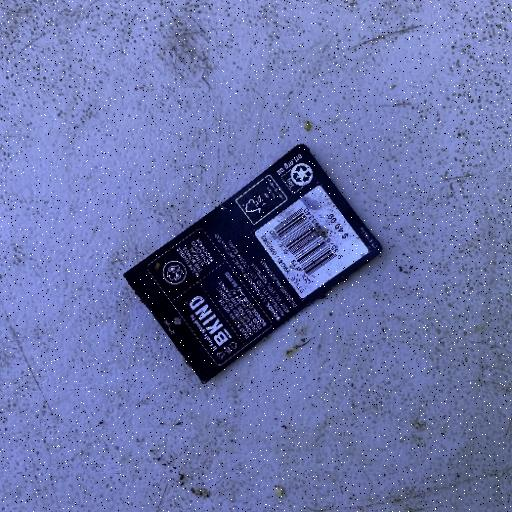Cardboard: (121, 142, 384, 386)
